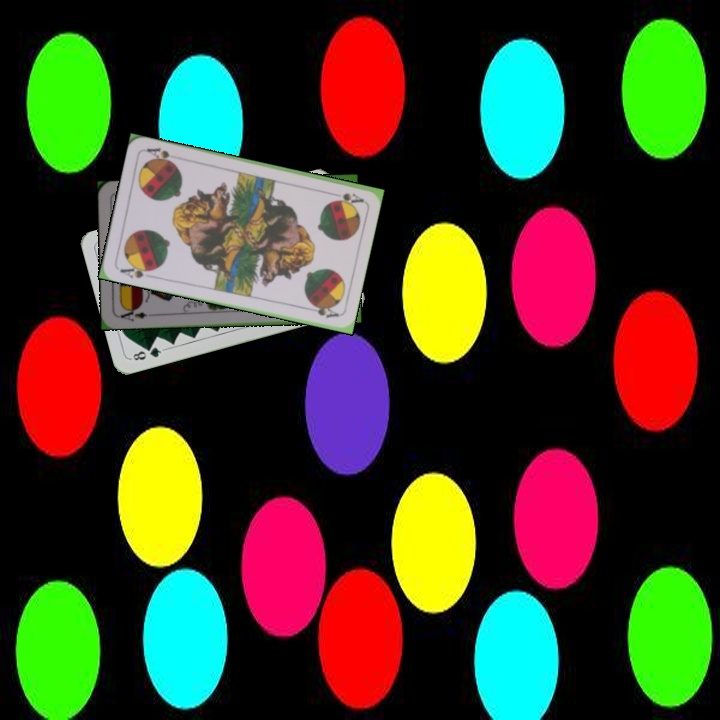EA: (116, 304, 156, 324)
G8: (127, 343, 167, 363)
SA: (116, 260, 157, 281), (325, 188, 366, 206)
